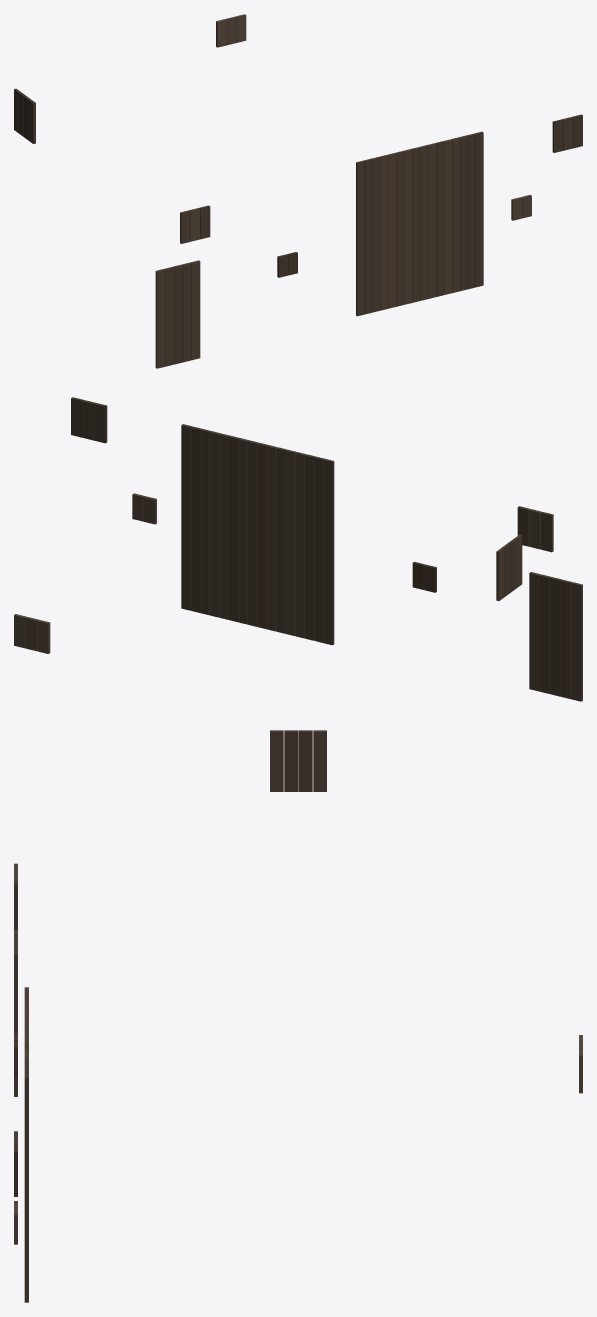
The model's file is SM_Bld_005_Wood.glb.
3 views of the same model, one above another, from view 1: azimuth 30°, elevation 25°; view 2: azimuth 150°, elevation 25°; view 3: azimuth 270°, elevation 25° (orthographic). The views are drawn at different scales.
Parts seen in each view (by area): view 1: SM_Bld_005_Wood; view 2: SM_Bld_005_Wood; view 3: SM_Bld_005_Wood.
Part boxes in pixels (left/top/right/bottom): SM_Bld_005_Wood: left=14, top=14, right=582, bottom=368; SM_Bld_005_Wood: left=14, top=397, right=582, bottom=701; SM_Bld_005_Wood: left=14, top=730, right=582, bottom=1302.
Size of the model in its own units: 9.49 by 4.13 by 6.88.
